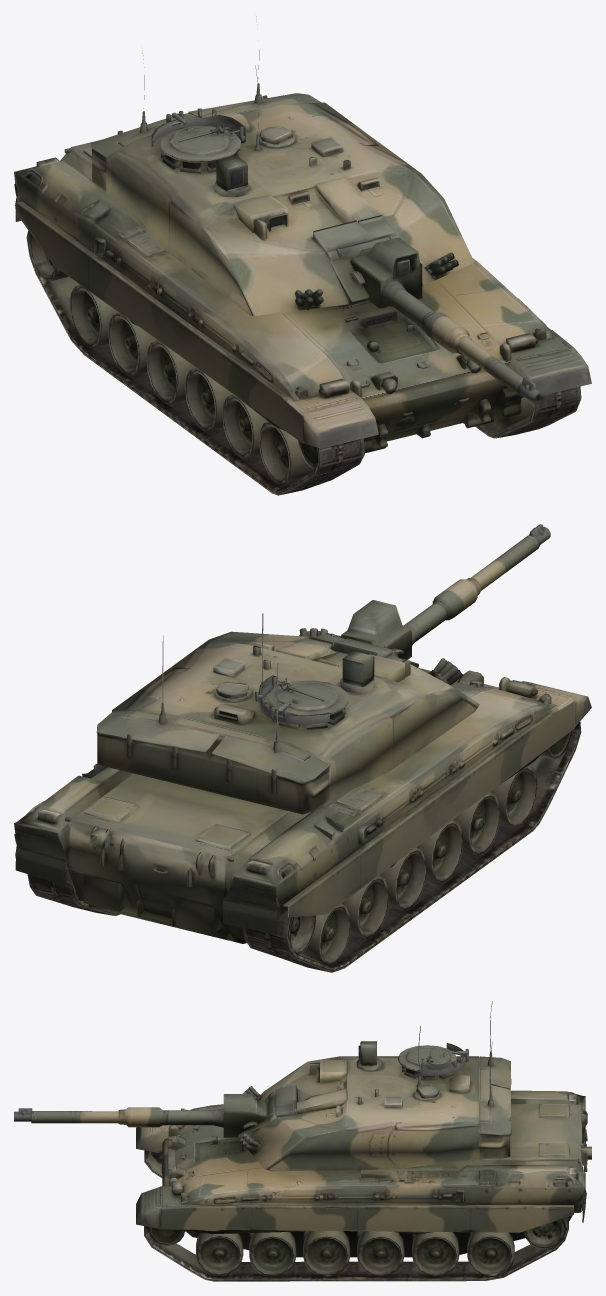
The model's file is tank.glb.
3 views of the same model, one above another, from view 1: azimuth 30°, elevation 25°; view 2: azimuth 150°, elevation 25°; view 3: azimuth 270°, elevation 25° (orthographic). The views are drawn at different scales.
Parts seen in each view (by area): view 1: tripo_node_1f4bd3f5; view 2: tripo_node_1f4bd3f5; view 3: tripo_node_1f4bd3f5.
Boxes of the visible parts, box(x1,y1,x2,y2) form: tripo_node_1f4bd3f5: box(14, 16, 591, 495); tripo_node_1f4bd3f5: box(14, 524, 591, 972); tripo_node_1f4bd3f5: box(14, 1001, 591, 1281).
Bounding box in the file's own units: 0.3921 × 0.4058 × 0.9995.
Materials: 1 (1 with a texture image).
